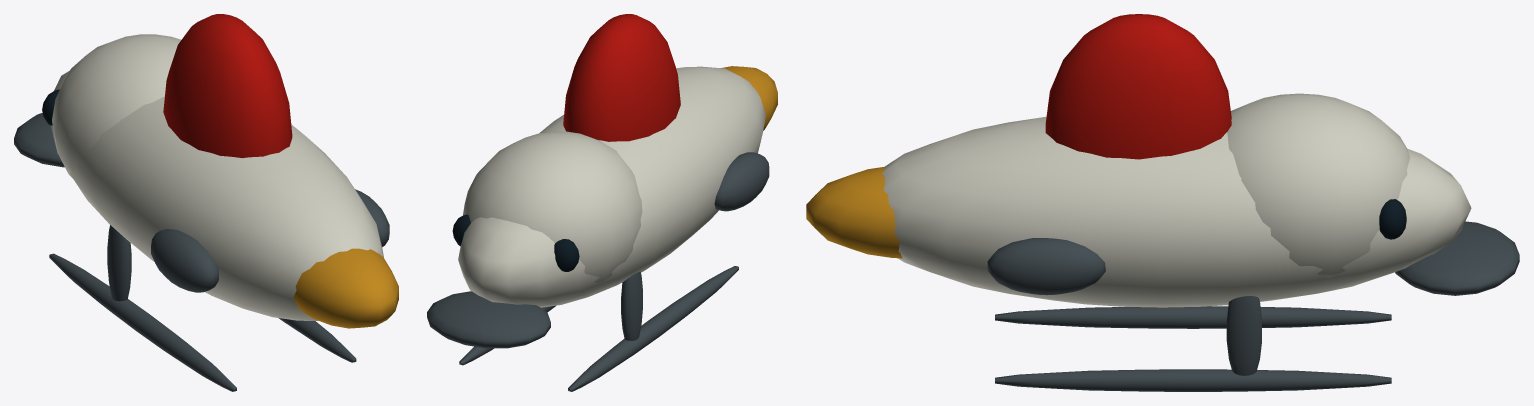
File: alvin.obj
The picture shows the model from 3 angles, left to right: view 1: azimuth 30°, elevation 25°; view 2: azimuth 150°, elevation 25°; view 3: azimuth 270°, elevation 25°; orthographic projection. The views are drawn at different scales.
Parts seen in each view (by area): view 1: main_fairing, red_sail, crew_sphere, stern_housing, port_skid, port_thruster, sample_basket, port_skid_support, starboard_skid, starboard_thruster, port_window; view 2: main_fairing, crew_sphere, red_sail, sample_basket, port_skid, port_thruster, port_skid_support, stern_housing, port_window, starboard_window, starboard_skid; view 3: main_fairing, crew_sphere, red_sail, starboard_skid, port_skid, stern_housing, sample_basket, starboard_thruster, starboard_skid_support, starboard_window.
Part boxes in pixels (box(x1,y1,x2,y2)): main_fairing: box(51, 70, 383, 320); red_sail: box(163, 14, 292, 158); crew_sphere: box(52, 34, 181, 178); stern_housing: box(293, 248, 398, 328); port_skid: box(49, 253, 236, 391); port_thruster: box(151, 229, 218, 292); sample_basket: box(14, 113, 64, 167); port_skid_support: box(107, 225, 131, 301); starboard_skid: box(278, 318, 356, 362); starboard_thruster: box(355, 189, 389, 246); port_window: box(42, 89, 59, 125); main_fairing: box(458, 66, 765, 307); crew_sphere: box(463, 131, 642, 283); red_sail: box(563, 14, 680, 141); sample_basket: box(427, 291, 550, 348); port_skid: box(568, 266, 738, 391); port_thruster: box(714, 152, 769, 211); port_skid_support: box(621, 271, 642, 340); stern_housing: box(721, 66, 777, 130); port_window: box(554, 239, 579, 271); starboard_window: box(452, 214, 470, 246); starboard_skid: box(459, 305, 555, 365); main_fairing: box(882, 116, 1471, 307); crew_sphere: box(1227, 93, 1410, 277); red_sail: box(1045, 14, 1231, 159); starboard_skid: box(995, 369, 1391, 391); port_skid: box(995, 306, 1391, 328); stern_housing: box(806, 167, 902, 258); sample_basket: box(1395, 221, 1519, 295); starboard_thruster: box(987, 238, 1105, 295); starboard_skid_support: box(1226, 296, 1261, 375); starboard_window: box(1379, 199, 1406, 239).
Bounding box in the file's own units: 2.59 × 3.7 × 6.97.
